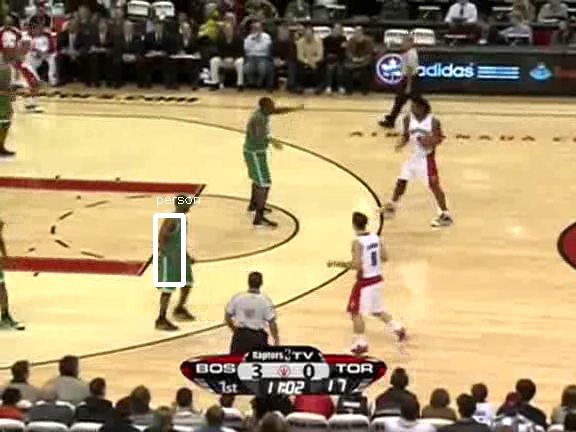person: (160, 214, 194, 295), (159, 214, 193, 295), (161, 214, 195, 295), (160, 213, 194, 294), (160, 215, 194, 296)
target_negative: (89, 302, 310, 376), (505, 79, 576, 190), (62, 111, 83, 250), (545, 186, 559, 303), (526, 76, 558, 112), (88, 264, 211, 272)
